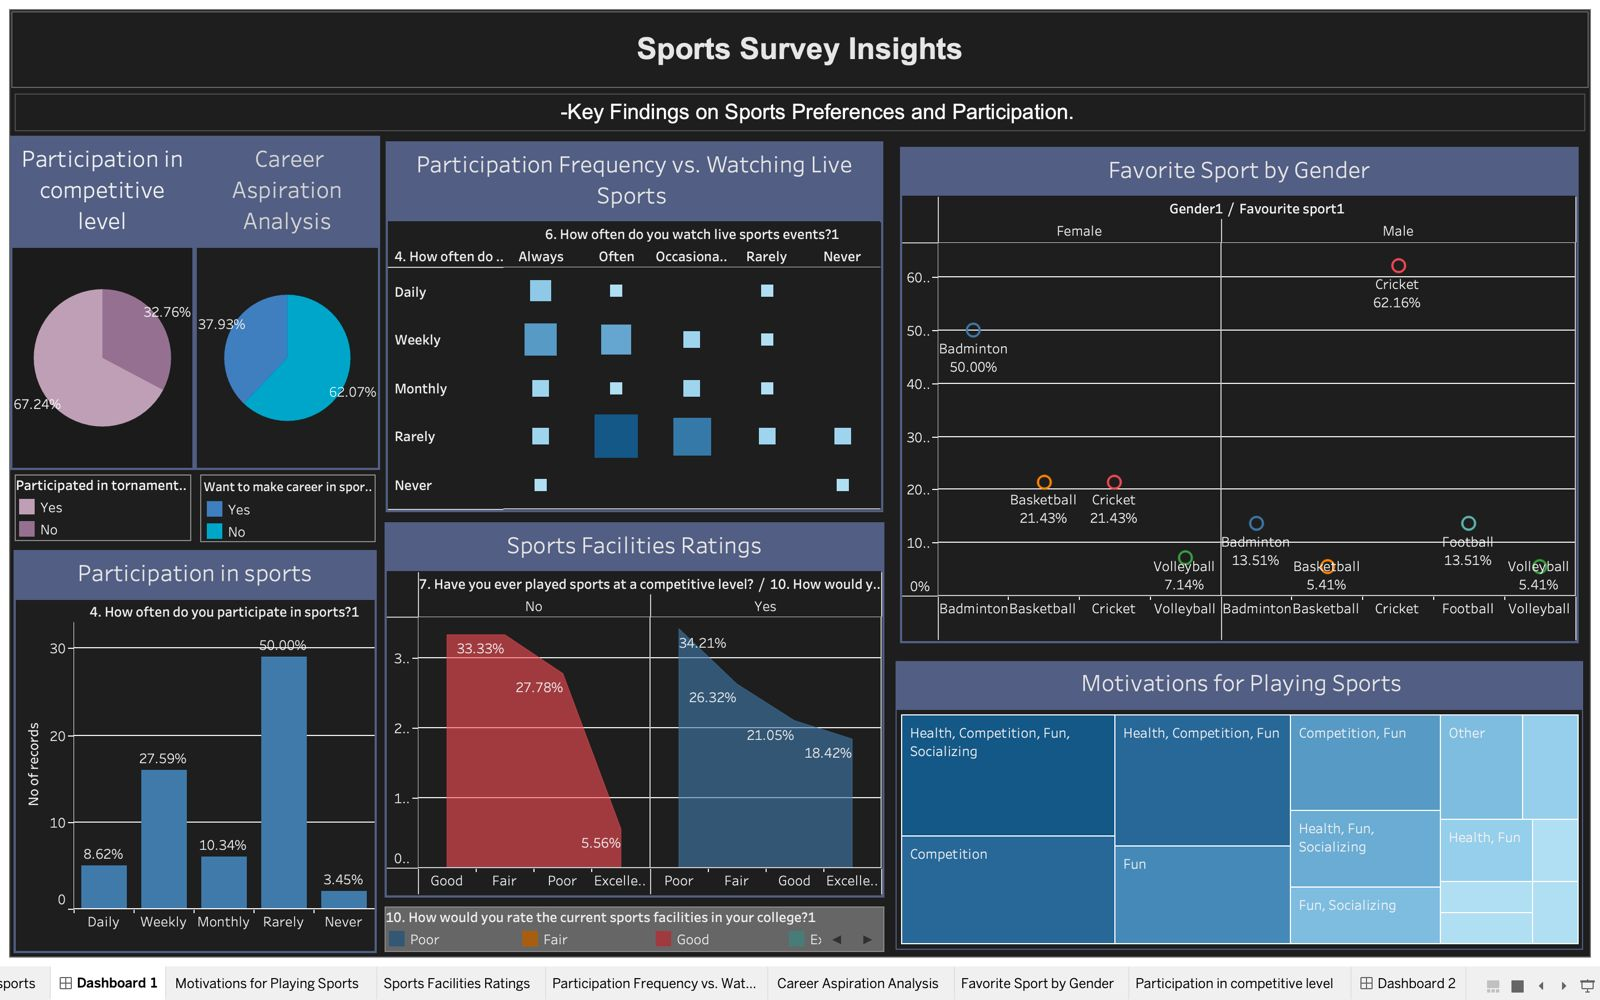

What the dashboard file says about the page in this screenshot:
{"tool":"tableau","page":{"name":"Dashboard 1","canvas":[1450,880],"ordinal":0},"visuals":[{"type":"text","box":[9,9,1432,71.8]},{"type":"text","box":[9,80.8,1432,42.5]},{"type":"worksheet","title":" Career Aspiration Analysis","mark":"Pie","box":[189.5,123.3,180.6,304.8]},{"type":"worksheet","title":"Participation Frequency vs. Watching Live Sports ","mark":"Automatic","rows":["4. How often do you participate in sports?"],"cols":["6. How often do you watch live sports events?"],"box":[370,123.3,507,263]},{"type":"worksheet","title":"Favorite Sport by Gender","mark":"Shape","cols":["Gender","Favourite sport"],"box":[877,123.3,563.9,431.7]},{"type":"worksheet","title":"Participation in competitive level","mark":"Pie","box":[11,125,176,301]},{"type":"worksheet","title":" Motivations for Playing Sports","mark":"Automatic","box":[370,386.3,507,169]},{"type":"legend","title":"Participation in competitive level","param":"[federated.1482enq1cgspmw16yx3s40cx6w3r].[none:7. Have you ever played sports at","box":[9,428.1,181,68]},{"type":"legend","title":" Career Aspiration Analysis","param":"[federated.1482enq1cgspmw16yx3s40cx6w3r].[none:11. Do you aspire to pursue a car","box":[190,428.1,180,69.6]},{"type":"worksheet","title":"Participation in sports","mark":"Automatic","rows":["Calculation_1265018927717294080"],"cols":["4. How often do you participate in sports?"],"box":[9,497.7,361,373.3]},{"type":"worksheet","title":"Role Model","mark":"Automatic","box":[877,555,564,316]},{"type":"worksheet","title":"Sports Facilities Ratings","mark":"Area","cols":["7. Have you ever played sports at a competitive level?","10. How would you rate the current sports facilities in your"],"box":[370,555.3,507,266.7]},{"type":"legend","title":"Sports Facilities Ratings","param":"[federated.1482enq1cgspmw16yx3s40cx6w3r].[none:10. How would you rate the curren","box":[370,822,507,49]}]}

Visuals, with their boxes on the page's 1450x880 design canvas (x1, y1, x2, y2). These are canvas units, not pixel positions in the 1600x1000 screenshot, which may show the page scaled, cropped or inside an application window:
text: (9,9,1441,81)
text: (9,81,1441,123)
" Career Aspiration Analysis" worksheet (Pie marks): (190,123,370,428)
"Participation Frequency vs. Watching Live Sports " worksheet: (370,123,877,386)
"Favorite Sport by Gender" worksheet (Shape marks): (877,123,1441,555)
"Participation in competitive level" worksheet (Pie marks): (11,125,187,426)
" Motivations for Playing Sports" worksheet: (370,386,877,555)
"Participation in competitive level" legend: (9,428,190,496)
" Career Aspiration Analysis" legend: (190,428,370,498)
"Participation in sports" worksheet: (9,498,370,871)
"Role Model" worksheet: (877,555,1441,871)
"Sports Facilities Ratings" worksheet (Area marks): (370,555,877,822)
"Sports Facilities Ratings" legend: (370,822,877,871)
